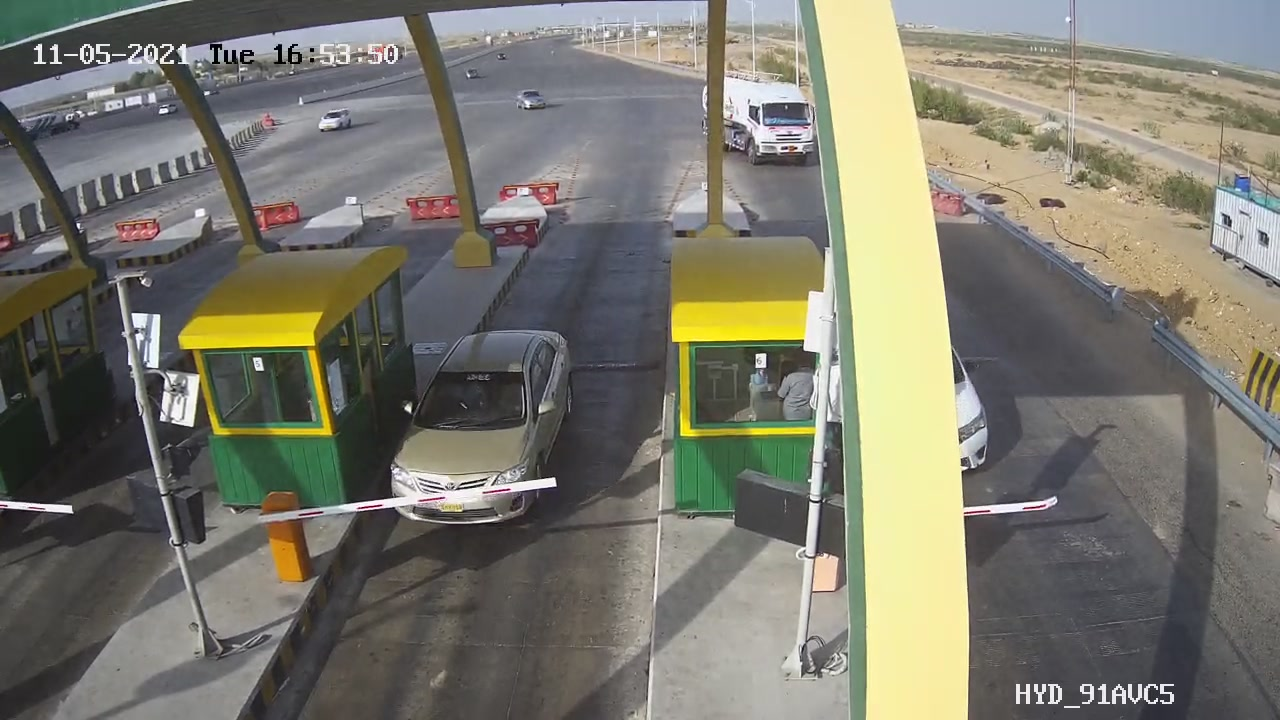F1: (365, 310, 598, 545)
